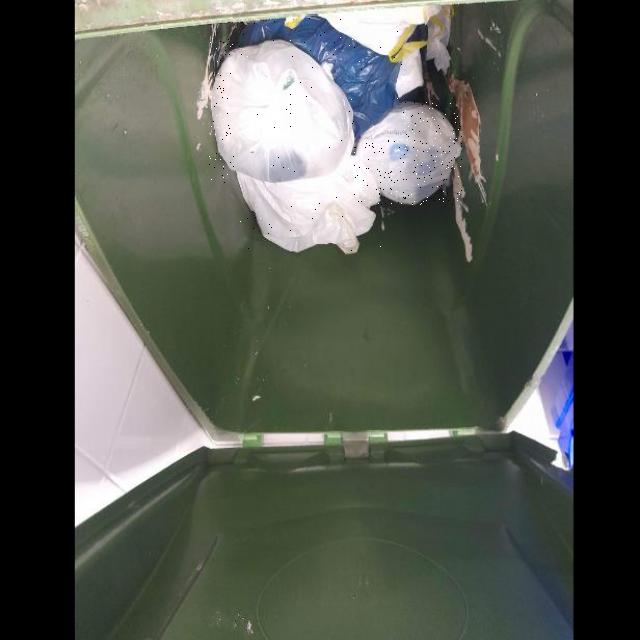plastic: (234, 15, 402, 139), (210, 38, 353, 183), (235, 127, 382, 254), (355, 102, 462, 204)
